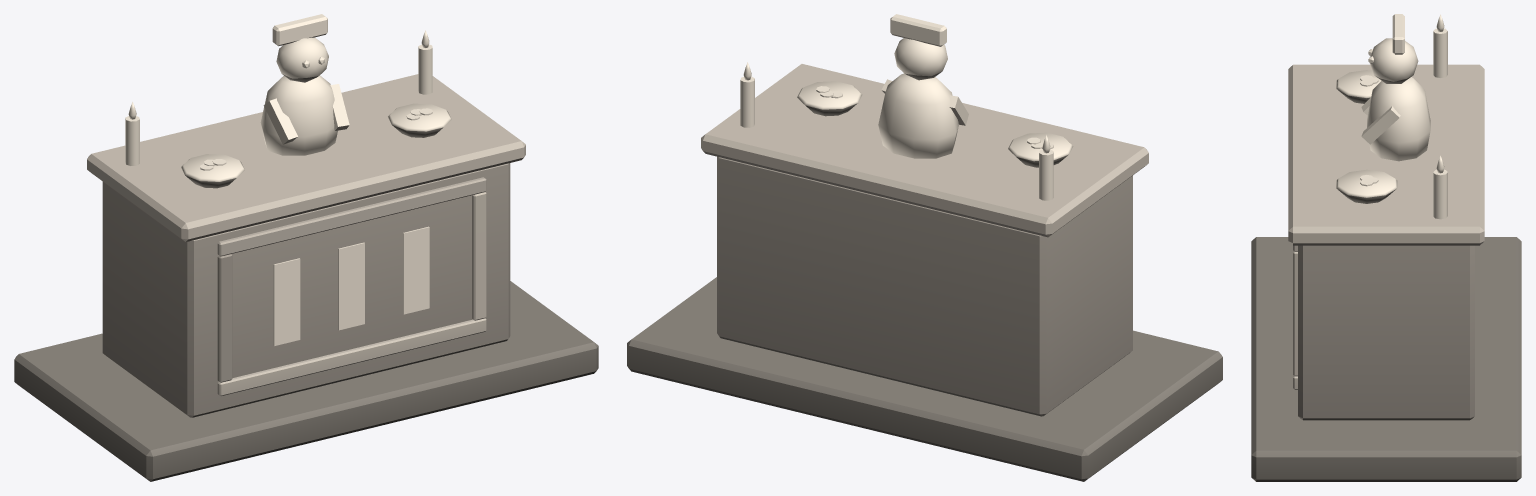
File: SM_VKI_Prop_Altar_Idol.fbx
3 renders of one model, left to right at view 1: azimuth 30°, elevation 25°; view 2: azimuth 150°, elevation 25°; view 3: azimuth 270°, elevation 25°, orthographic. The views are drawn at different scales.
Parts seen in each view (by area): view 1: SM_VKI_Prop_Altar_Idol.001; view 2: SM_VKI_Prop_Altar_Idol.001; view 3: SM_VKI_Prop_Altar_Idol.001.
Part boxes in pixels (left/top/right/bottom): SM_VKI_Prop_Altar_Idol.001: left=14, top=14, right=598, bottom=481; SM_VKI_Prop_Altar_Idol.001: left=627, top=14, right=1222, bottom=481; SM_VKI_Prop_Altar_Idol.001: left=1251, top=14, right=1521, bottom=481.
Size of the model in its own units: 2.1 by 1.57 by 1.1.
